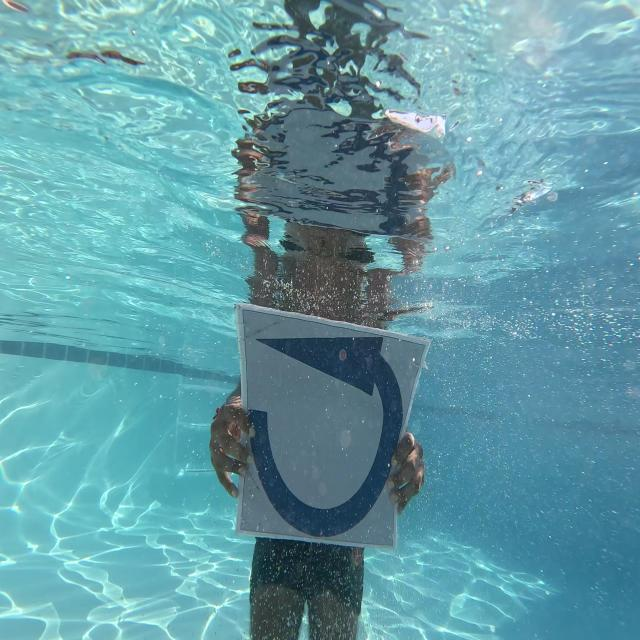blue_side: (240, 297, 417, 560)
